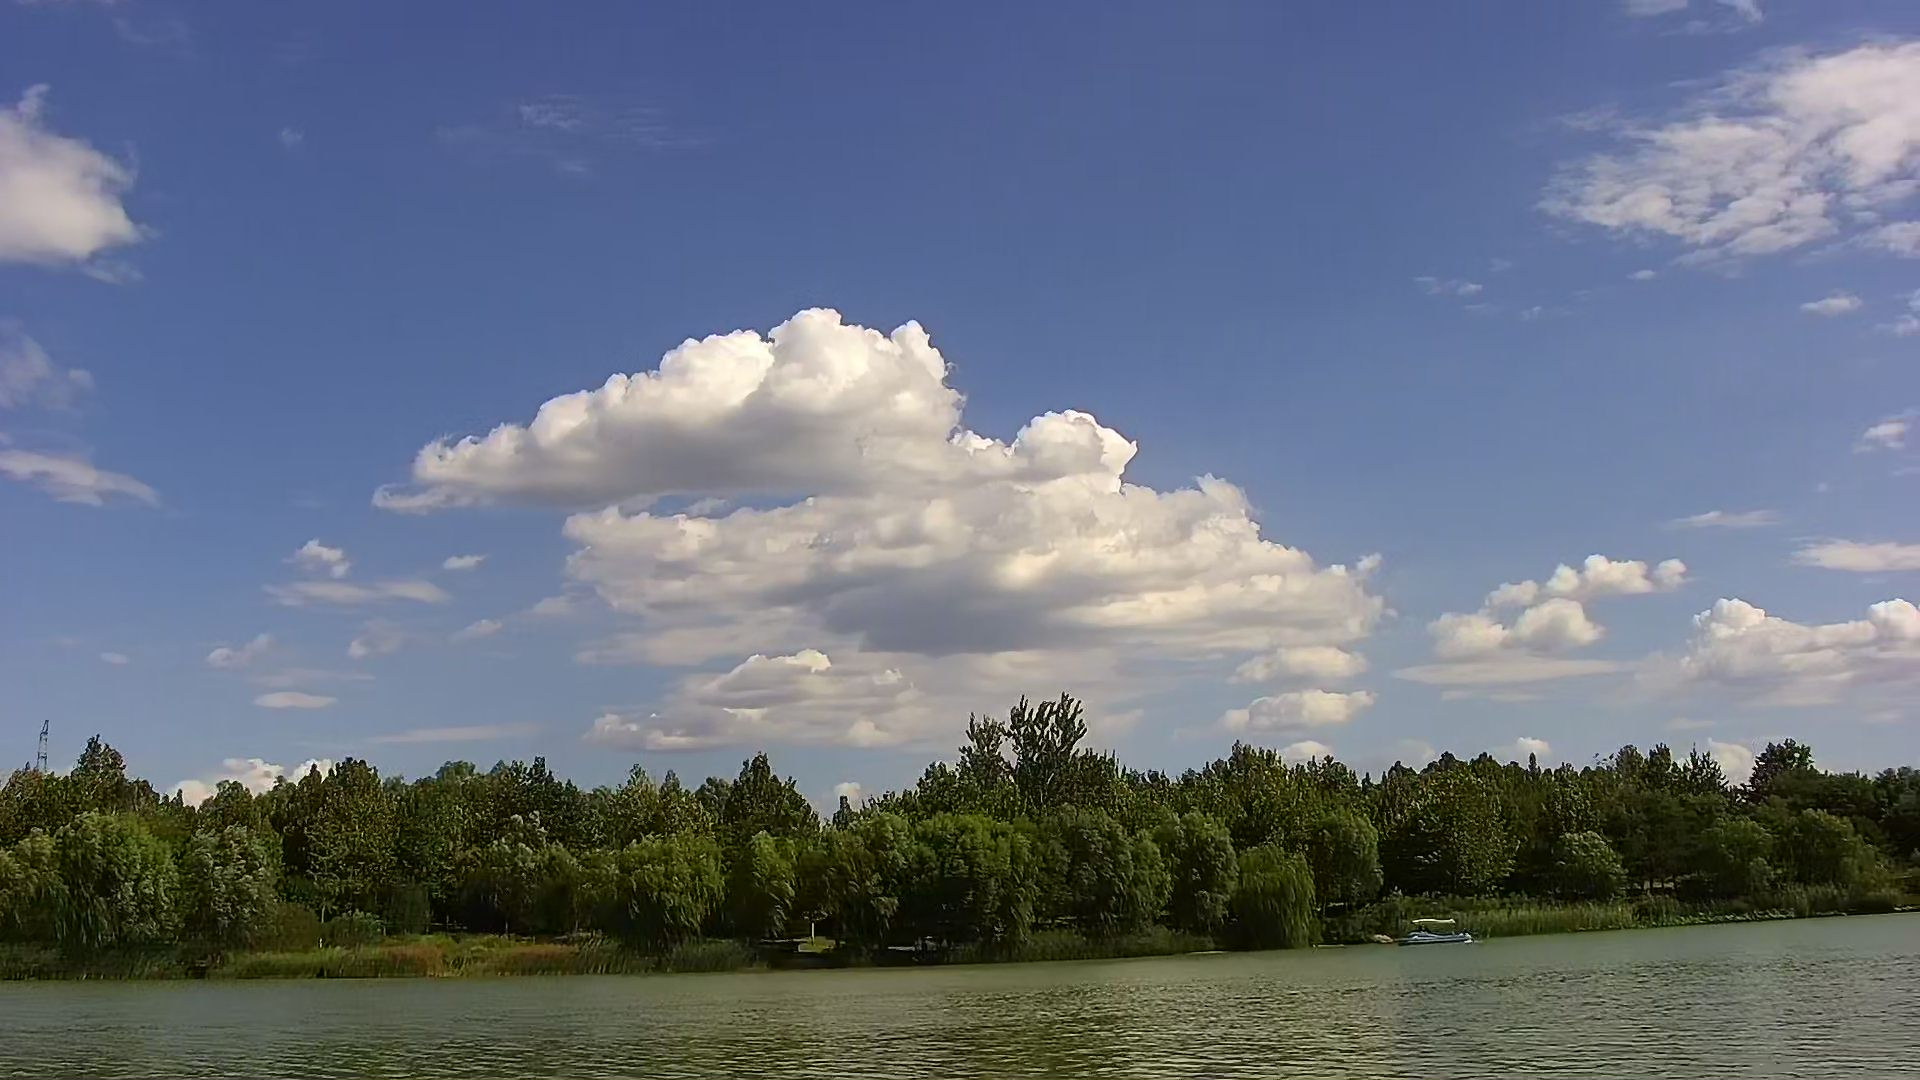boat: (1395, 916, 1477, 948)
